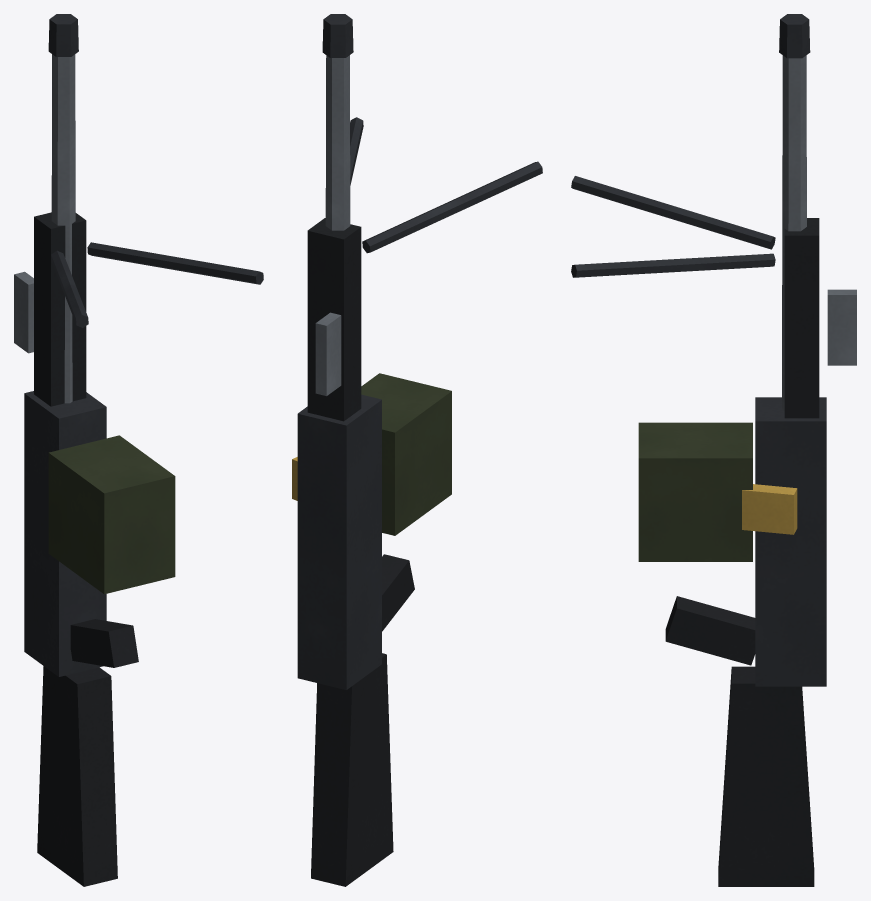
File: weapon_lmg.glb
3 renders of one model, left to right at view 1: azimuth 30°, elevation 25°; view 2: azimuth 150°, elevation 25°; view 3: azimuth 270°, elevation 25°, orthographic. The views are drawn at different scales.
Visible parts, largest first — view 1: Weapon_LMG; view 2: Weapon_LMG; view 3: Weapon_LMG.
Boxes of the visible parts, x1,y1,x2,y2 form: Weapon_LMG: (14,14,263,886); Weapon_LMG: (292,14,542,886); Weapon_LMG: (571,14,856,886).
Size of the model in its own units: 0.2428 by 1.04 by 0.3122.
5 materials, 5 textured.
